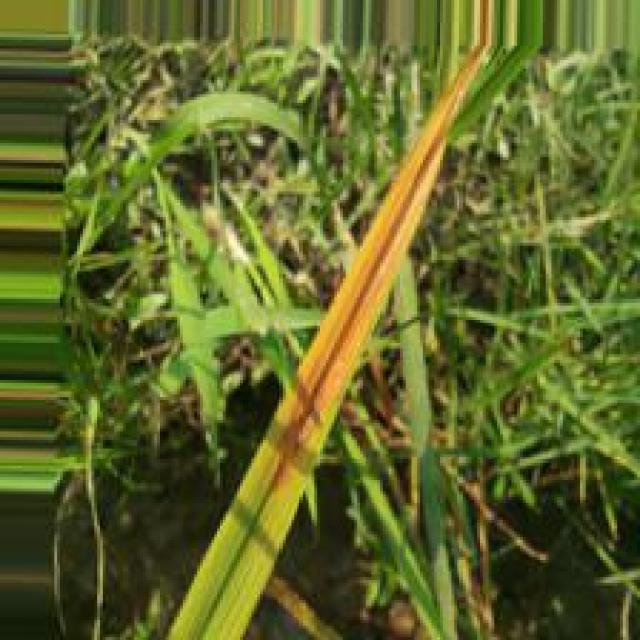Rice Tungro: (263, 43, 492, 505)
